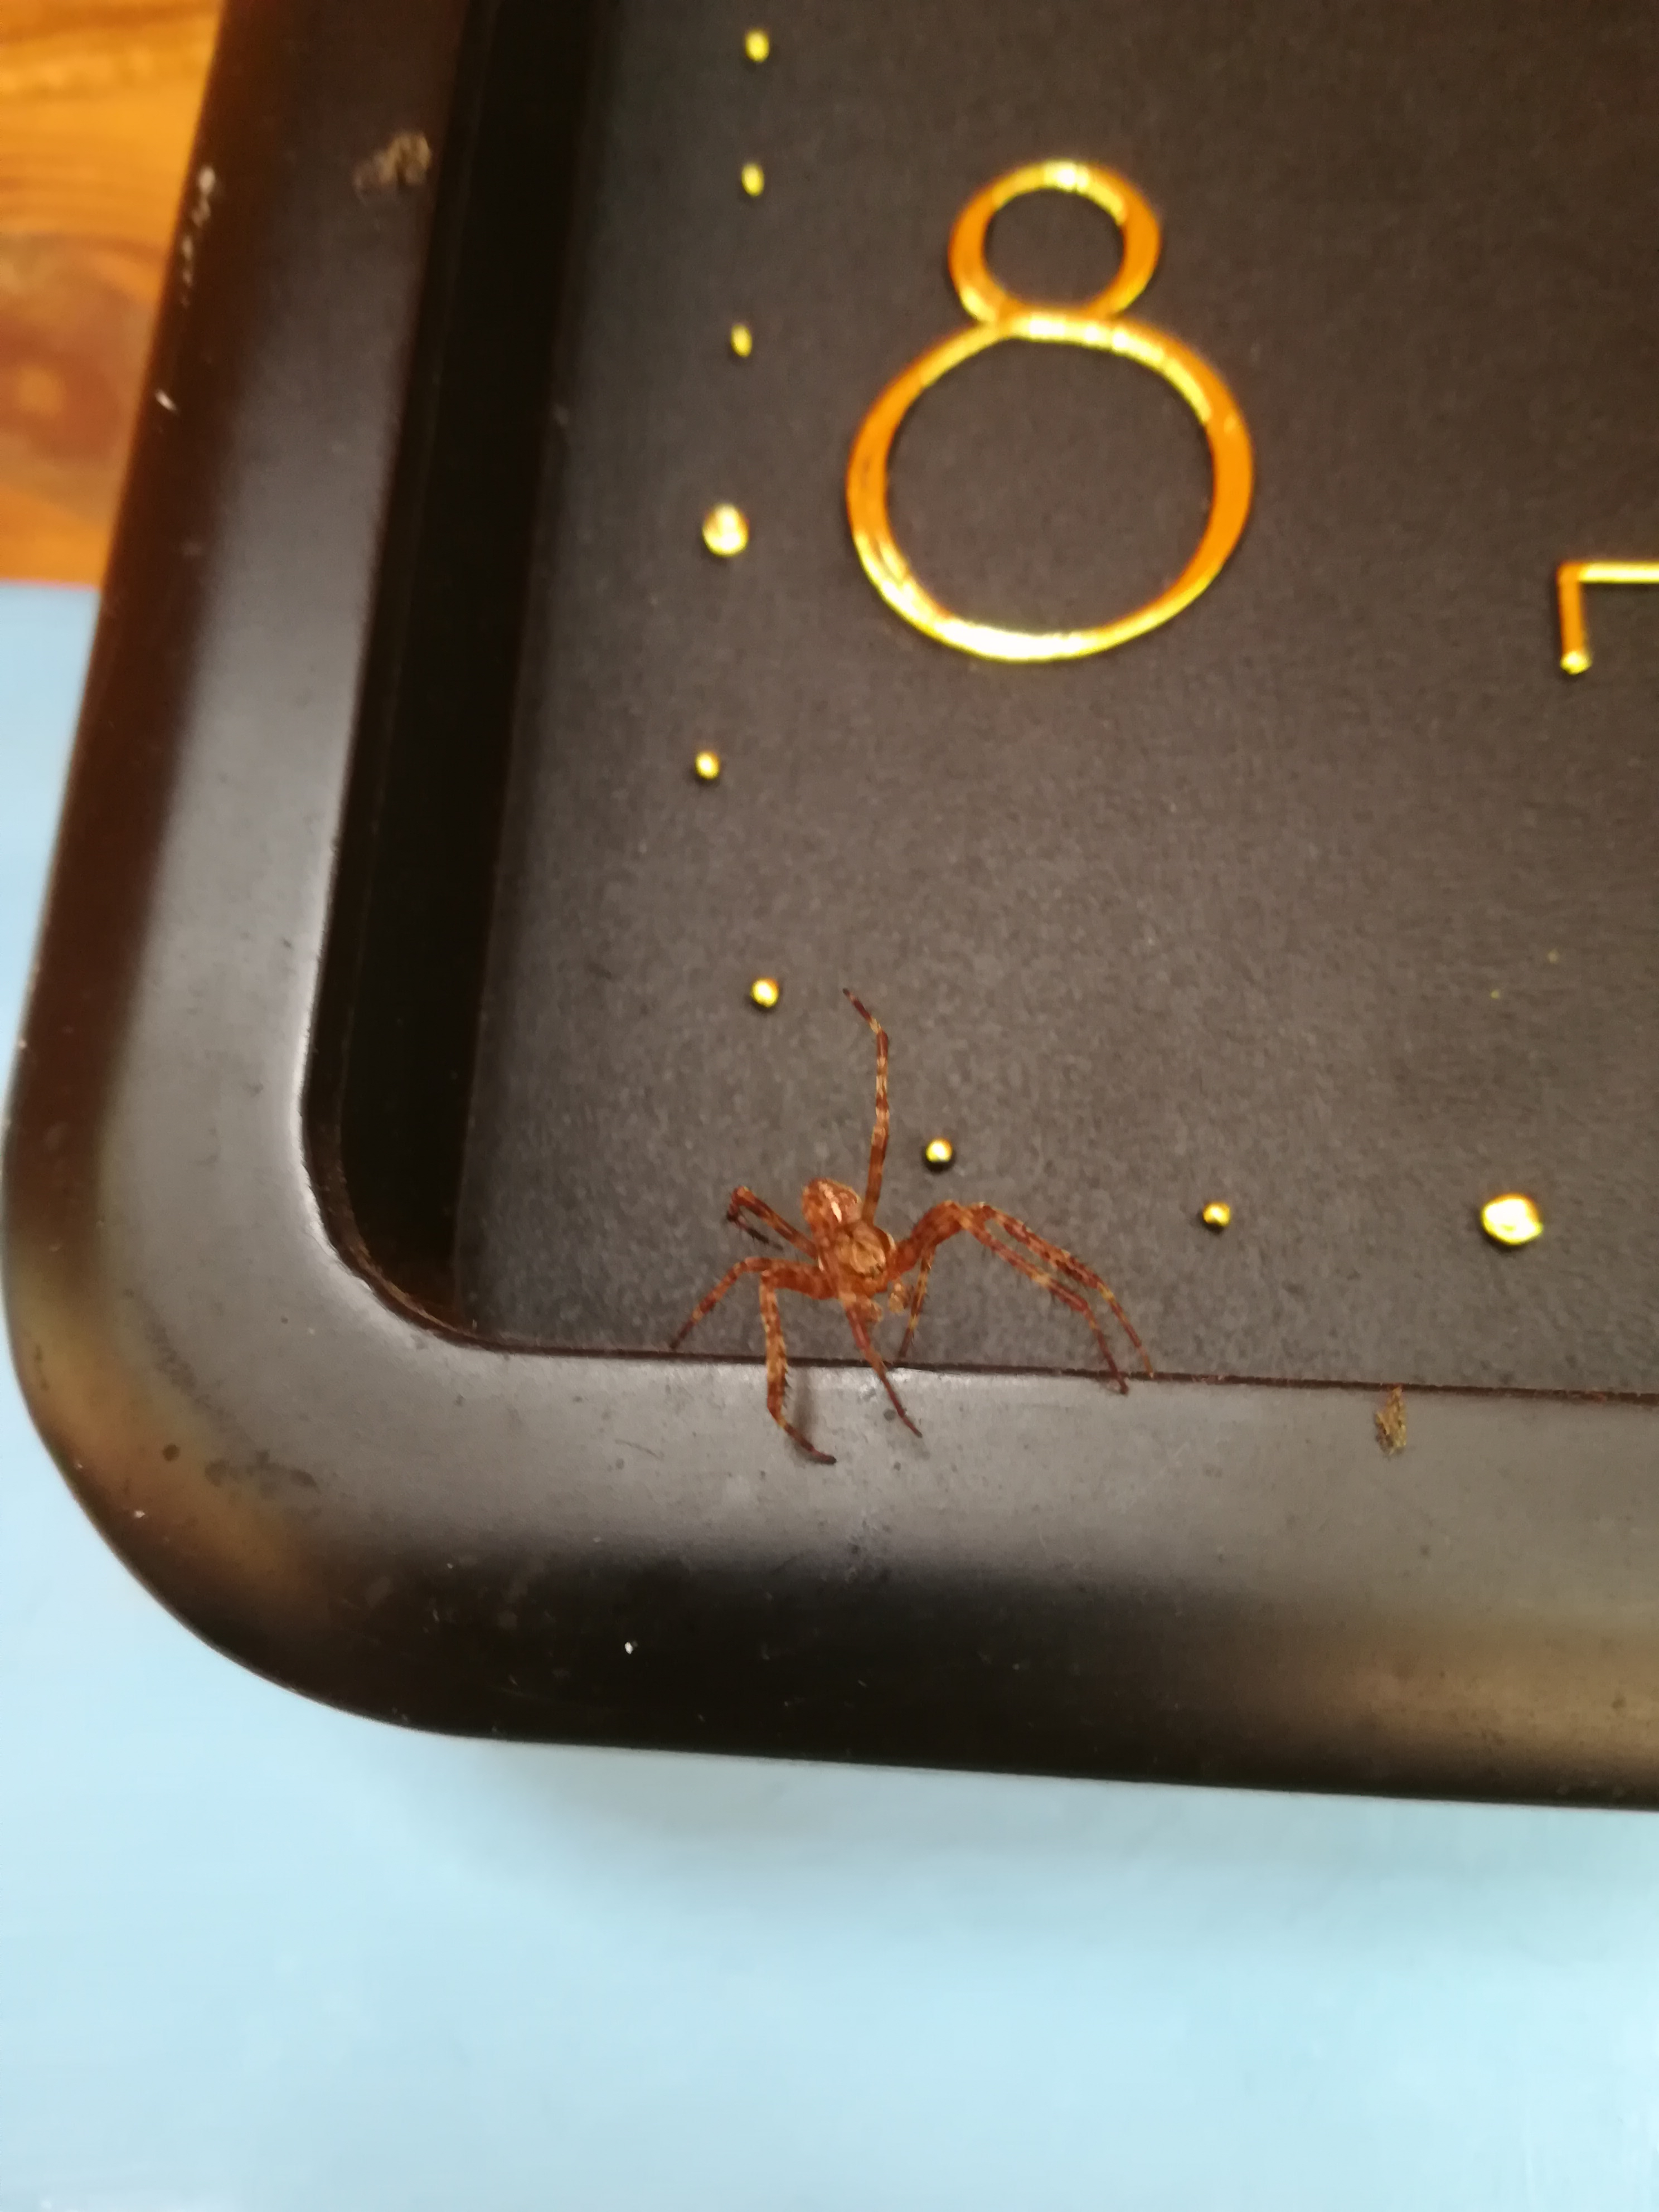spider: (647, 958, 1159, 1493)
